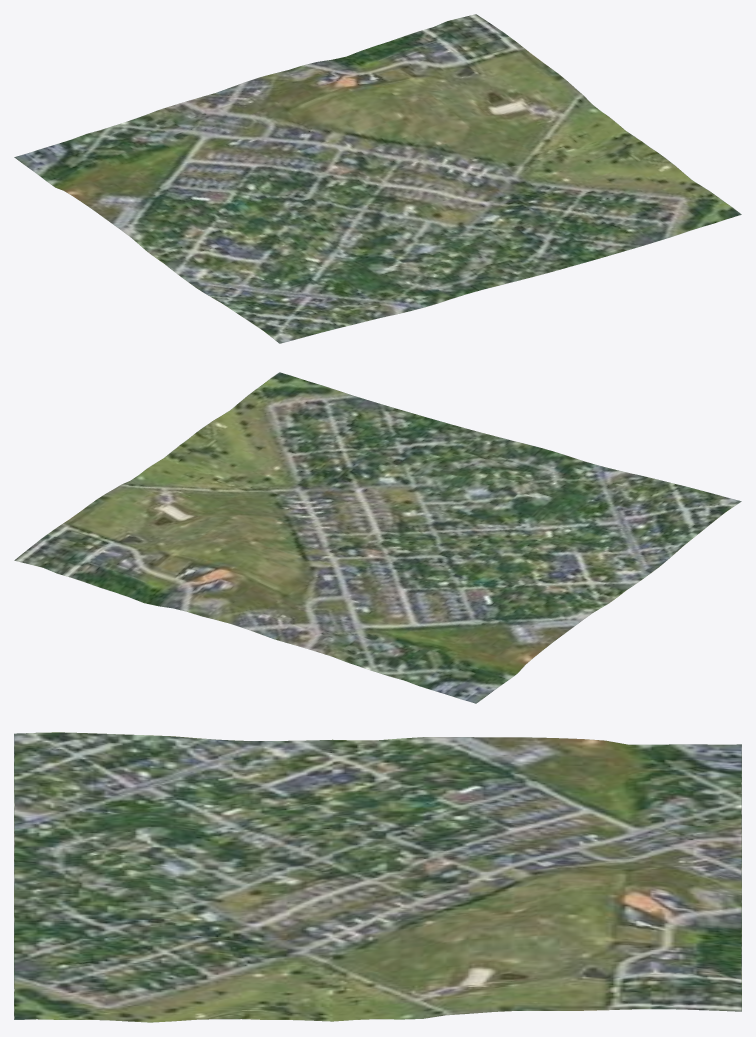
3 renders of one model, top to bottom at view 1: azimuth 30°, elevation 25°; view 2: azimuth 150°, elevation 25°; view 3: azimuth 270°, elevation 25°, orthographic. The views are drawn at different scales.
Bounding box in the file's own units: 975 × 65.51 × 971.
Materials: 1 (1 with a texture image).
